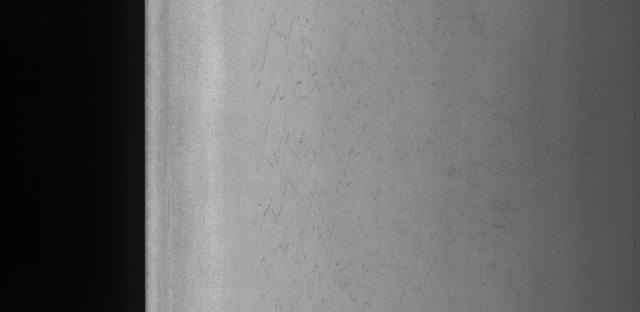silk_spot: (251, 20, 388, 287)
